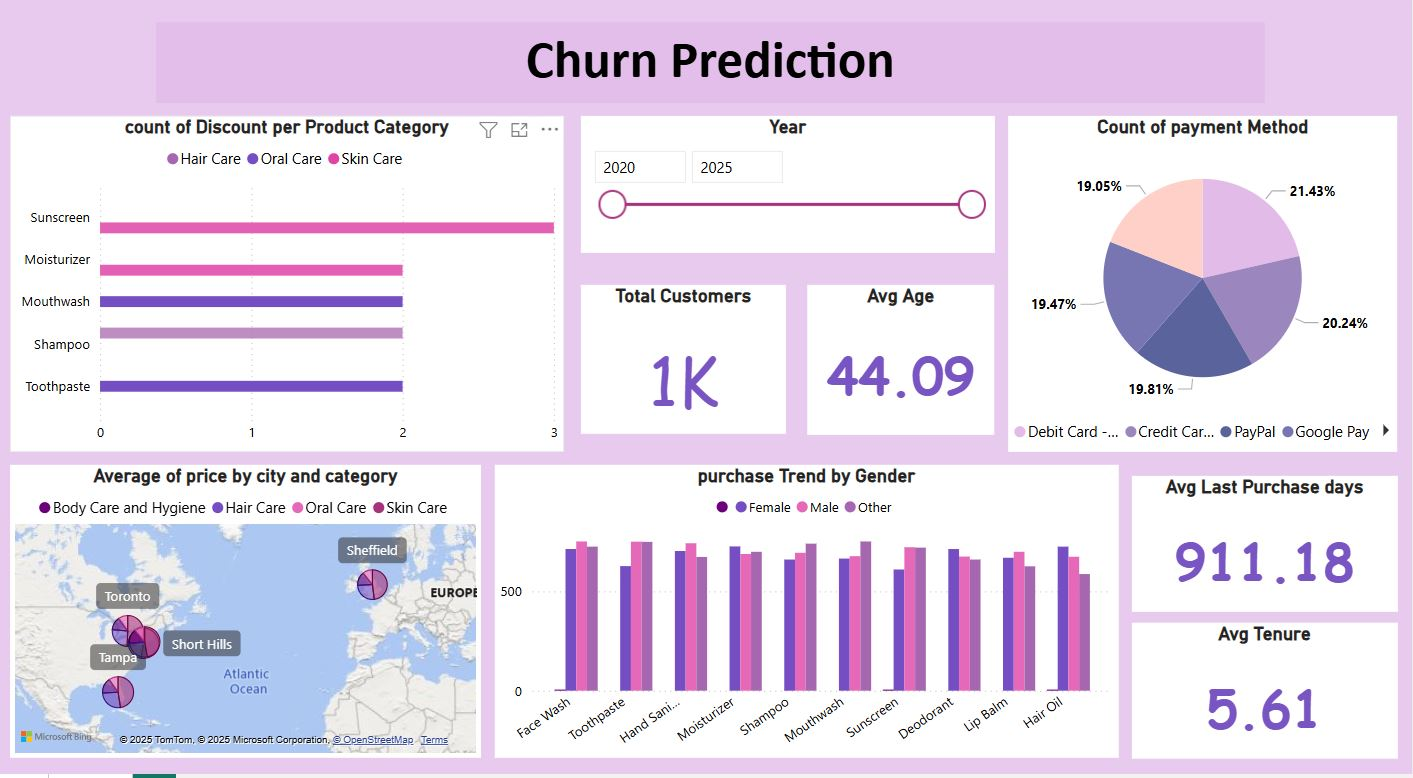

Layout of this report page (visuals, bound fields, positions):
{"tool":"powerbi","page":{"name":"Page 1","canvas":[1280,720],"ordinal":0},"visuals":[{"type":"cardVisual","title":"Avg Tenure","fields":{"Data":["Avg(fact_customer.tenure)"]},"box":[1026,573,241,123],"z":0},{"type":"cardVisual","title":"Avg Last Purchase days","fields":{"Data":["Avg(fact_customer.days_since_last_purchase)"]},"box":[1026,440,241,123],"z":1000},{"type":"clusteredColumnChart","title":"purchase Trend by Gender","fields":{"Category":["fact_customer.item"],"Series":["fact_customer.gender"],"Y":["Sum(fact_customer.quantity)"]},"box":[449,430,565,266],"z":2000},{"type":"pieChart","title":"Count of payment Method","fields":{"Category":["fact_customer.payment_method"],"Y":["CountNonNull(fact_customer.payment_method)"]},"box":[914,114,353,305],"z":3000},{"type":"clusteredBarChart","title":"count of Discount per Product Category","fields":{"Y":["Count(fact_customer.discount_used)"],"Category":["fact_customer.item"],"Series":["fact_customer.category"]},"box":[10,114,502,305],"z":4000},{"type":"slicer","title":"Year","fields":{"Values":["fact_customer.invoice_date.Variation.Date Hierarchy.Year"]},"box":[527,114,375,124],"z":5000},{"type":"map","fields":{"Category":["fact_customer.city"],"Series":["fact_customer.category"],"Size":["Avg(fact_customer.price)"]},"box":[10,430,427,266],"z":6000},{"type":"textbox","title":"xyz","box":[142,29,1005,74],"z":7000},{"type":"cardVisual","title":"Total Customers","fields":{"Data":["Count(fact_customer.customer_id)"]},"box":[527,267,186,135],"z":8000},{"type":"cardVisual","title":"Avg Age","fields":{"Data":["Avg(fact_customer.age)"]},"box":[732,267,170,136],"z":9000}]}

Visuals, with their boxes in screenshot pixels (x1, y1, x2, y2), scaled from the page's 1280x720 canvas onto the 1413x778 screenshot:
"Avg Tenure" cardVisual: BBox(1133, 619, 1399, 752)
"Avg Last Purchase days" cardVisual: BBox(1133, 475, 1399, 608)
"purchase Trend by Gender" clusteredColumnChart: BBox(496, 465, 1119, 752)
"Count of payment Method" pieChart: BBox(1009, 123, 1399, 453)
"count of Discount per Product Category" clusteredBarChart: BBox(11, 123, 565, 453)
"Year" slicer: BBox(582, 123, 996, 257)
map - fact_customer.city x fact_customer.category: BBox(11, 465, 482, 752)
"xyz" textbox: BBox(157, 31, 1266, 111)
"Total Customers" cardVisual: BBox(582, 289, 787, 434)
"Avg Age" cardVisual: BBox(808, 289, 996, 435)
